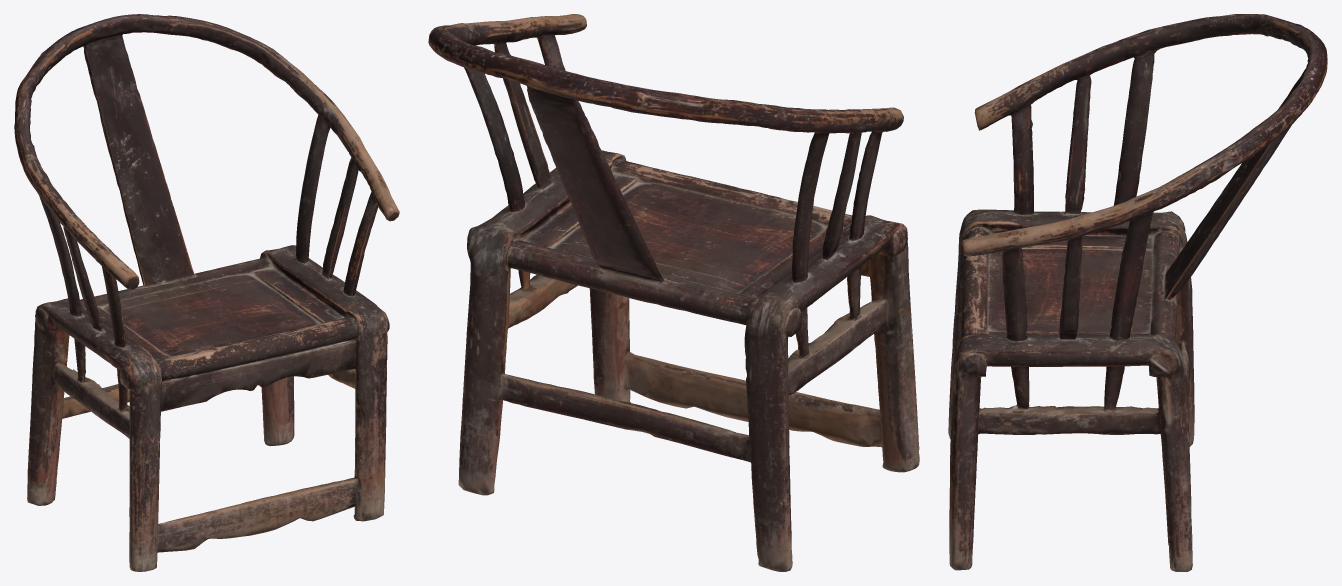
Rendered from 0716c650-c735-493b-8f3a-3be2edfd3115.glb.
The picture shows the model from 3 angles, left to right: view 1: azimuth 30°, elevation 25°; view 2: azimuth 150°, elevation 25°; view 3: azimuth 270°, elevation 25°; orthographic projection. The views are drawn at different scales.
Parts seen in each view (by area): view 1: China Chair; view 2: China Chair; view 3: China Chair.
Part boxes in pixels (x1,y1,x2,y2): China Chair: [14, 14, 399, 571]; China Chair: [428, 14, 919, 571]; China Chair: [948, 14, 1327, 571].
Size of the model in its own units: 0.6991 by 0.8893 by 0.6674.
1 material, 1 textured.
